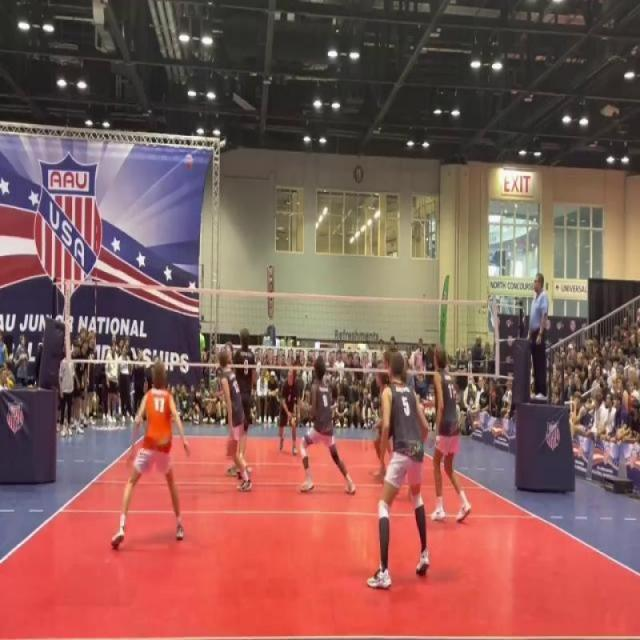volleyball: (183, 151, 194, 172)
